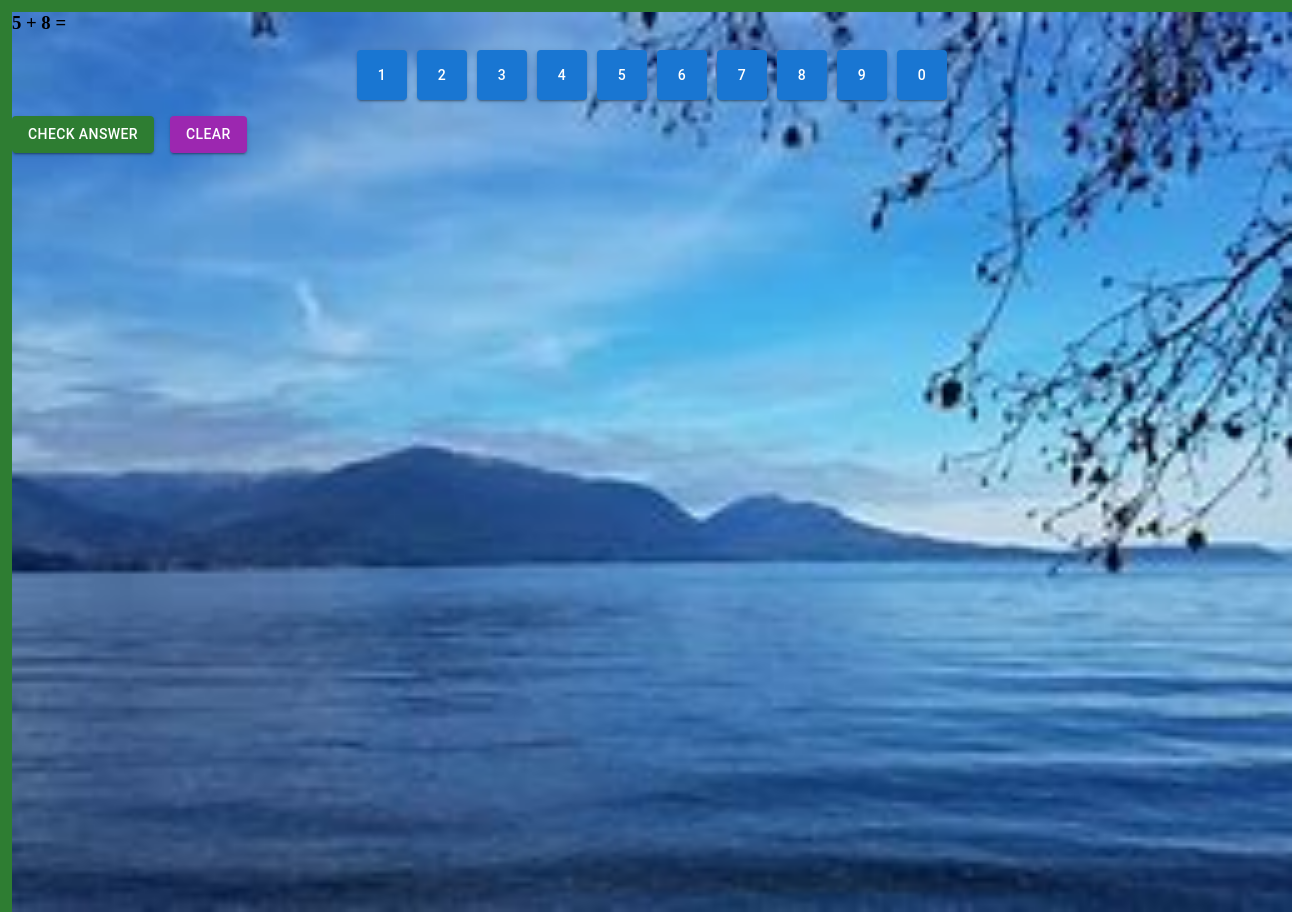
Game board › When there are more questions › When the user enters an answer and presses the Check Answer button › displays that the answer is wrong and the correct answer
Click the button "1". click: (382, 75)
box: [357, 50, 407, 100]
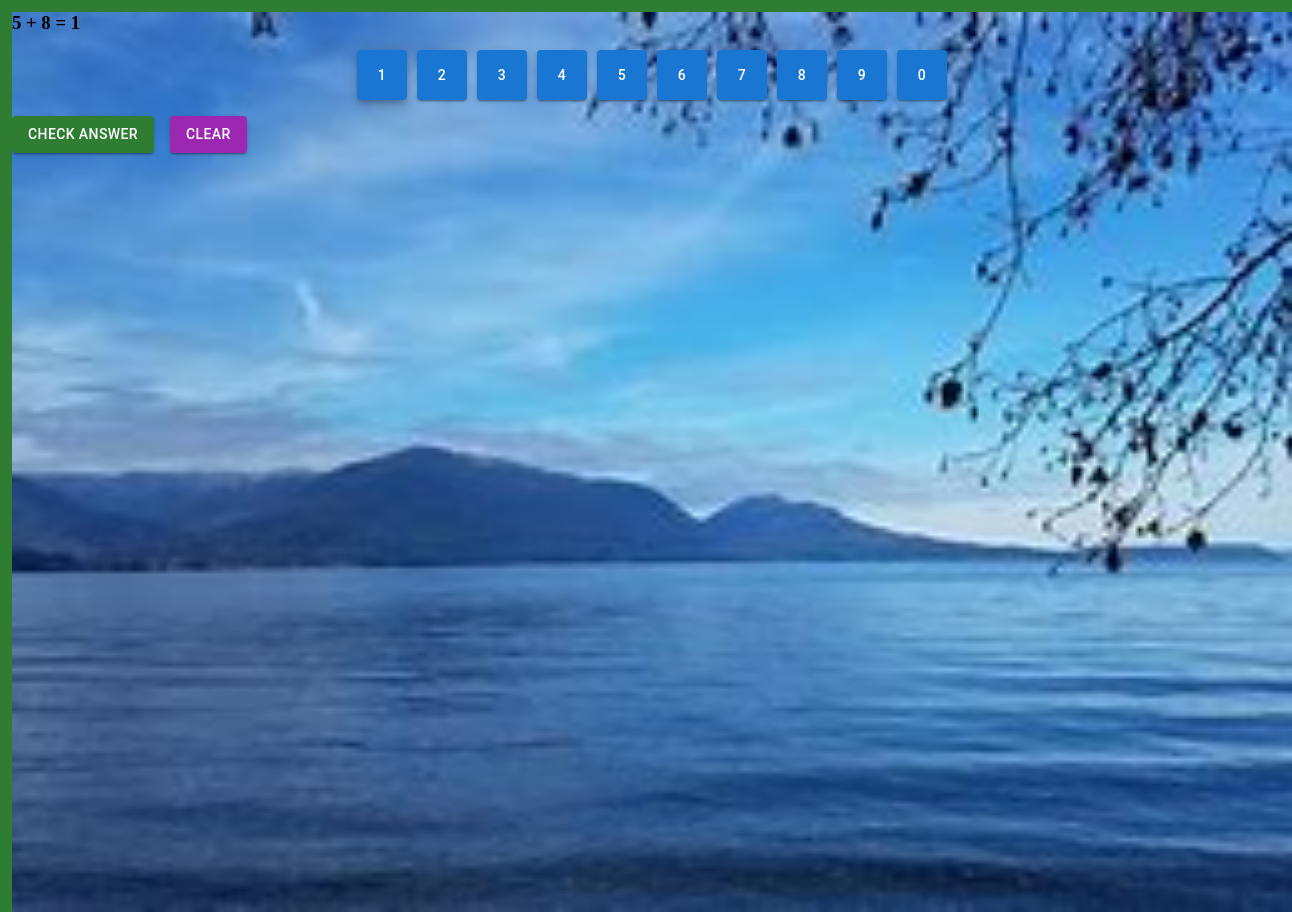
Click the button "0". click: (922, 75)
box: [897, 50, 947, 100]
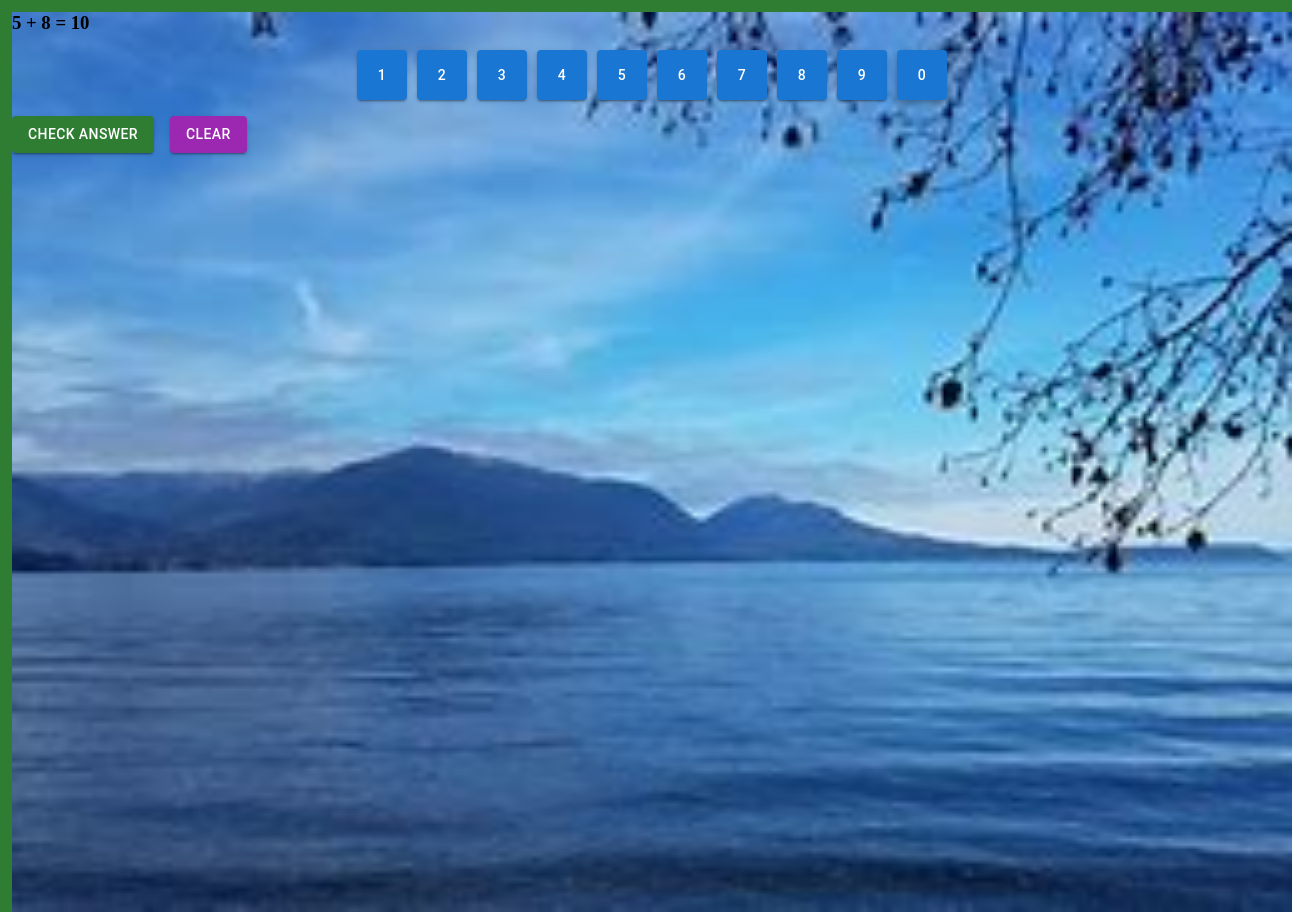
Click the button "Check Answer". click: (83, 134)
box: [12, 116, 154, 152]
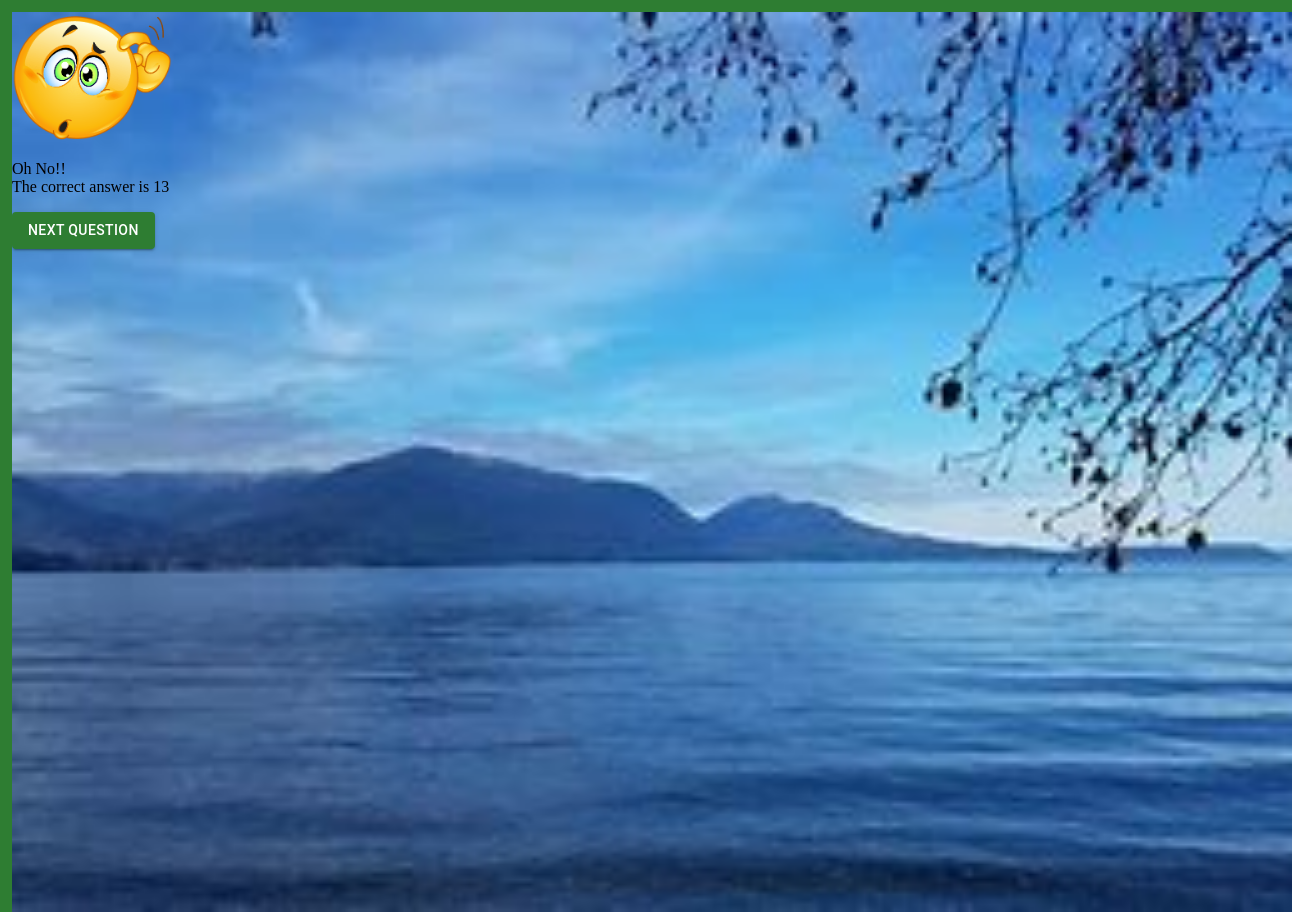
Expected: the text "Oh No!!" is shown, [12, 160, 66, 177]
Expected: the text "The correct answer is 13" is shown, [12, 178, 169, 195]
